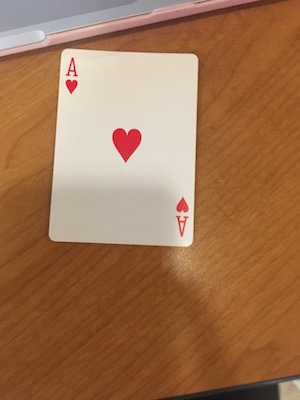AceOfHearts: (38, 43, 205, 250)
